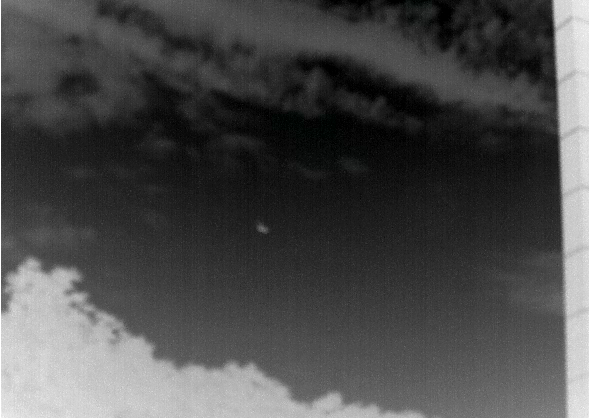dim target: (252, 222, 270, 235)
